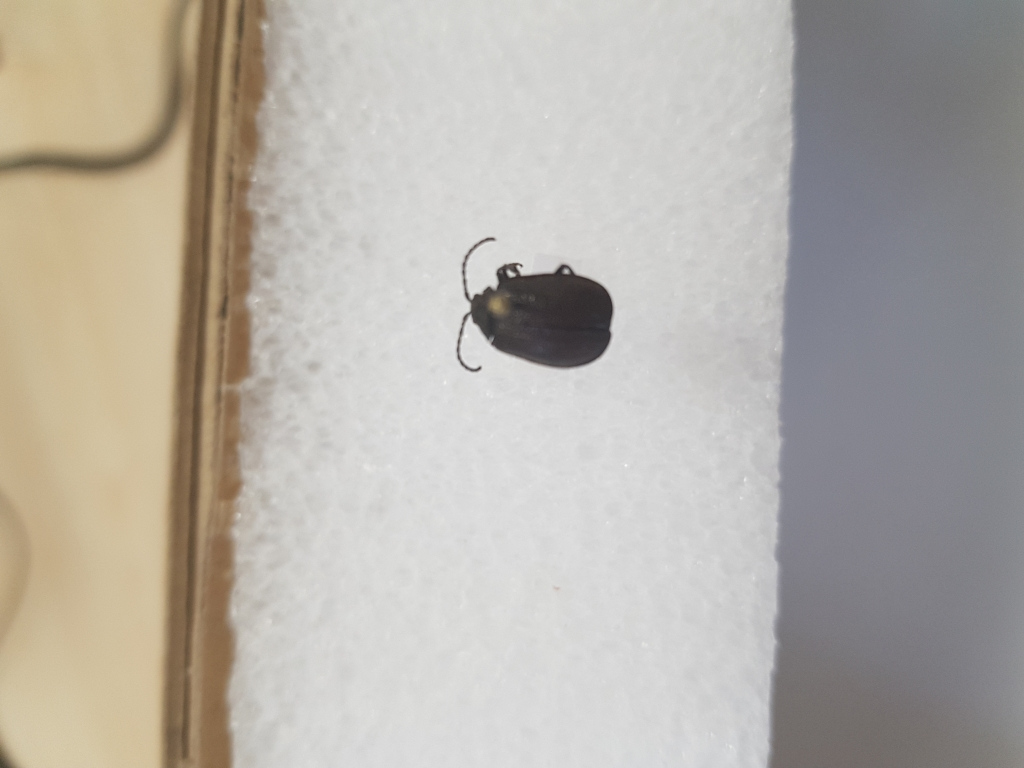Galeruca_tanaceti: (444, 228, 617, 387)
